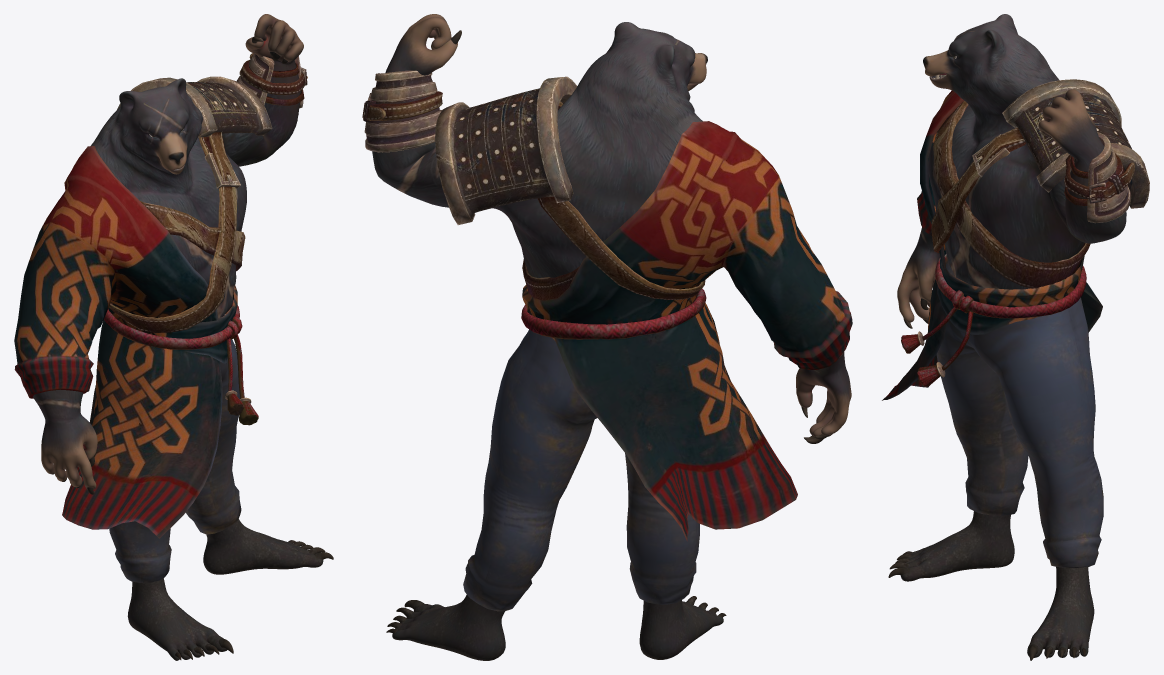
The model's file is Bear2.glb.
3 views of the same model, side by side, from view 1: azimuth 30°, elevation 25°; view 2: azimuth 150°, elevation 25°; view 3: azimuth 270°, elevation 25° (orthographic). The views are drawn at different scales.
Parts seen in each view (by area): view 1: bear_rig_0002:Bear_Costume, bear_rig_0002:body; view 2: bear_rig_0002:Bear_Costume, bear_rig_0002:body; view 3: bear_rig_0002:Bear_Costume, bear_rig_0002:body.
Part boxes in pixels (x1,y1,x2,y2): bear_rig_0002:Bear_Costume: (14, 53, 307, 582); bear_rig_0002:body: (33, 14, 333, 660); bear_rig_0002:Bear_Costume: (362, 70, 852, 611); bear_rig_0002:body: (372, 14, 851, 660); bear_rig_0002:Bear_Costume: (882, 79, 1149, 567); bear_rig_0002:body: (888, 14, 1126, 660).
Bounding box in the file's own units: 162 × 239 × 105.
2 materials, 2 textured.
